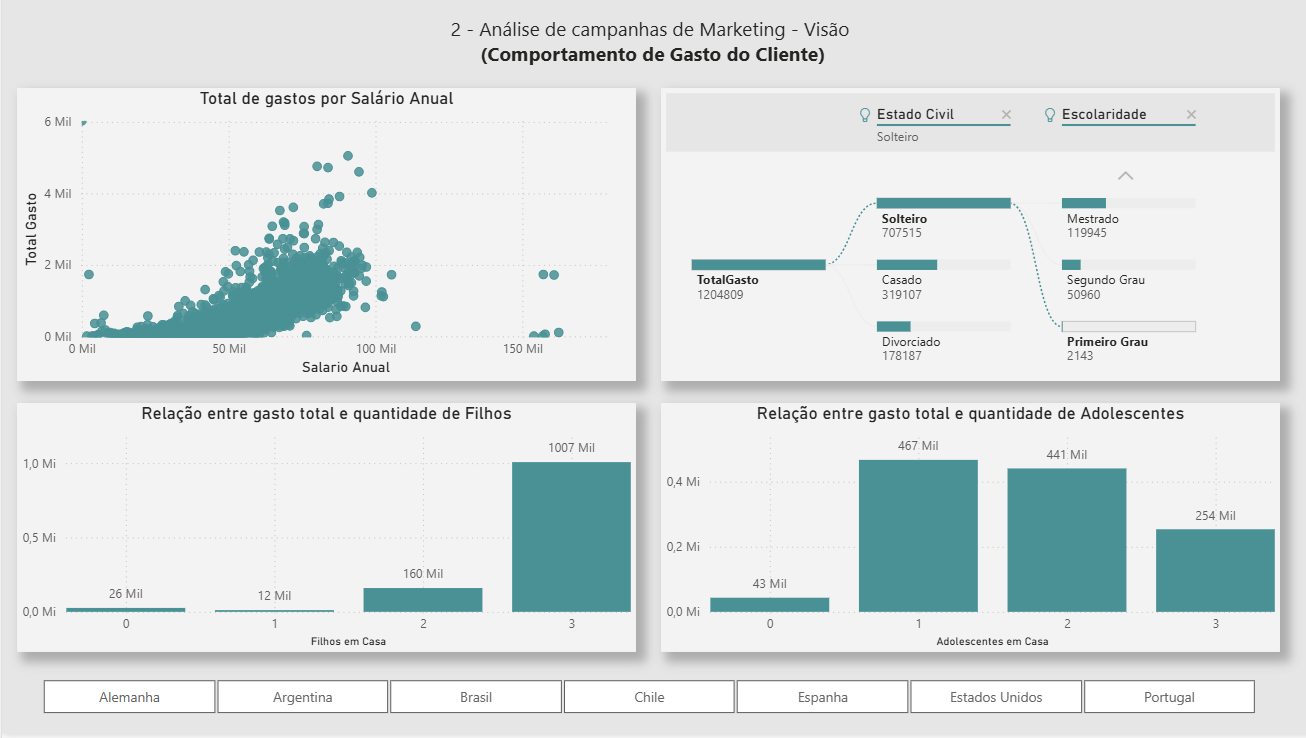

This screenshot's page, from the dashboard's own definition file:
{"tool":"powerbi","page":{"name":"Visão Comportamento","canvas":[1280,720],"ordinal":1},"visuals":[{"type":"textbox","box":[312.5,15.5,641.6,60],"z":0},{"type":"scatterChart","title":"Total de gastos por Salário Anual","fields":{"X":["Fmarketing.Salario Anual"],"Y":["Fmarketing.TotalGasto"]},"box":[14.5,91.1,602.2,284.6],"z":1000},{"type":"clusteredColumnChart","title":"Relação entre gasto total e quantidade de Filhos","fields":{"Category":["Fmarketing.Filhos em Casa"],"Y":["Fmarketing.TotalGasto"]},"box":[14.5,397.3,602.2,242.1],"z":2000},{"type":"clusteredColumnChart","title":"Relação entre gasto total e quantidade de Adolescentes","fields":{"Y":["Fmarketing.TotalGasto"],"Category":["Fmarketing.Adolescentes em Casa"]},"box":[640.5,397.3,602.2,242.1],"z":3000},{"type":"decompositionTreeVisual","fields":{"Analyze":["Fmarketing.TotalGasto"],"ExplainBy":["Fmarketing.Escolaridade","Fmarketing.Estado Civil"]},"box":[640.5,91.1,602.2,284.6],"z":4000},{"type":"slicer","fields":{"Values":["Fmarketing.Pais"]},"box":[14.5,660.2,1228.3,45.5],"z":5000}]}

Visuals, with their boxes in screenshot pixels (x1, y1, x2, y2), scaled from the page's 1280x720 canvas onto the 1306x738 screenshot:
textbox: (left=319, top=16, right=973, bottom=77)
"Total de gastos por Salário Anual" scatterChart: (left=15, top=93, right=629, bottom=385)
"Relação entre gasto total e quantidade de Filhos" clusteredColumnChart: (left=15, top=407, right=629, bottom=655)
"Relação entre gasto total e quantidade de Adolescentes" clusteredColumnChart: (left=654, top=407, right=1268, bottom=655)
decompositionTreeVisual - Fmarketing.TotalGasto x Fmarketing.Escolaridade: (left=654, top=93, right=1268, bottom=385)
slicer - Fmarketing.Pais: (left=15, top=677, right=1268, bottom=723)
